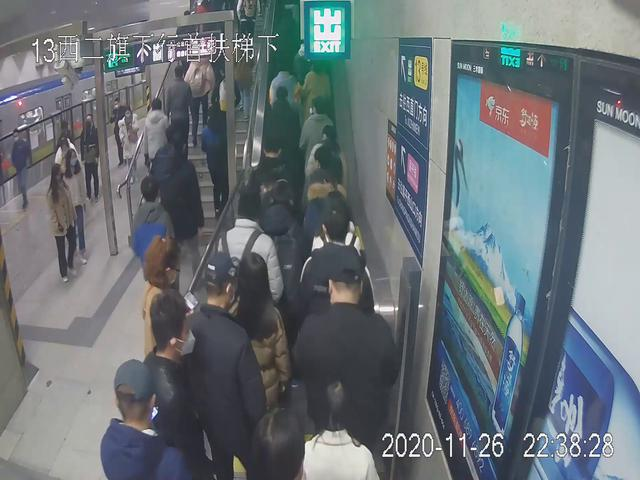person: (282, 266, 402, 475), (188, 246, 275, 478), (146, 131, 209, 290), (133, 171, 179, 314), (44, 162, 86, 290), (157, 65, 195, 183), (60, 144, 91, 273), (2, 127, 32, 217), (116, 105, 140, 187), (145, 95, 171, 169)
